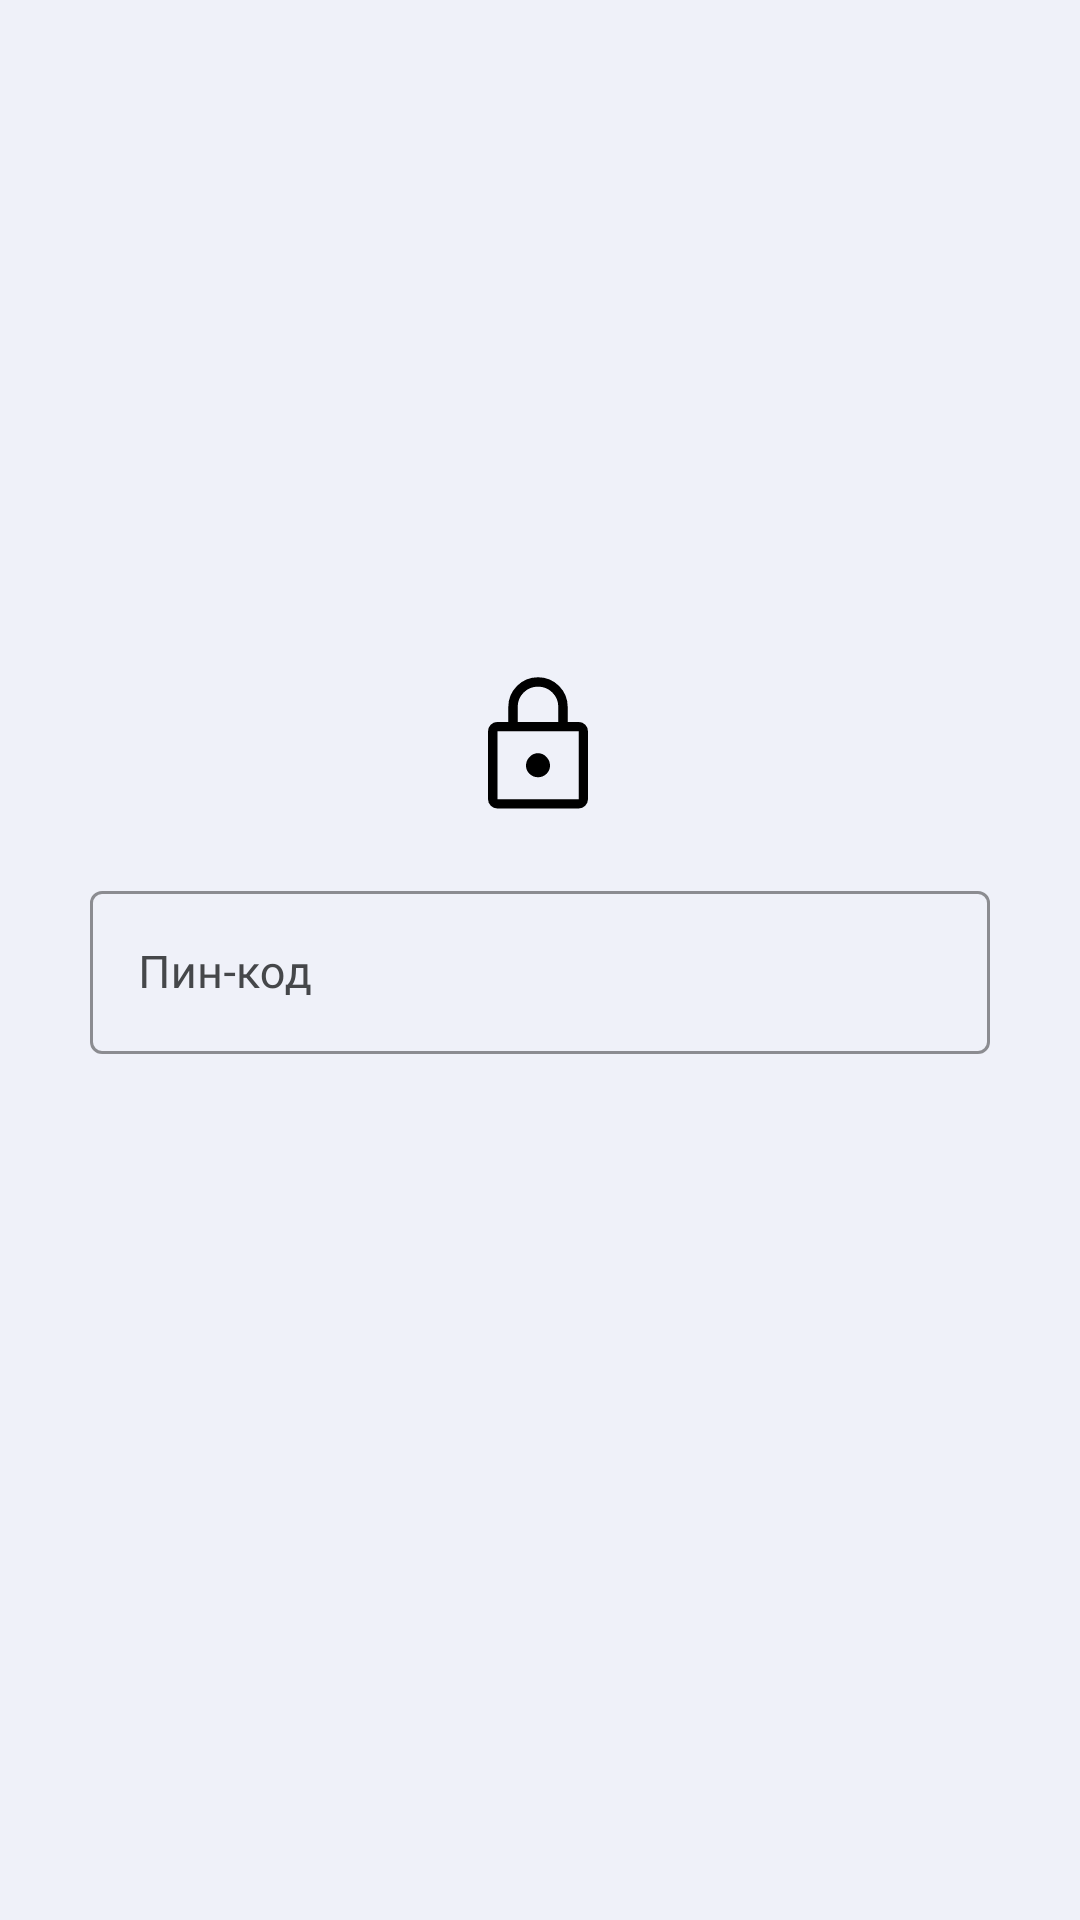

Named icons in this screenshot (1080 x 1920) and their bounding boxes, (x1, y1, x2, y2):
lock: (488, 677, 588, 809)
